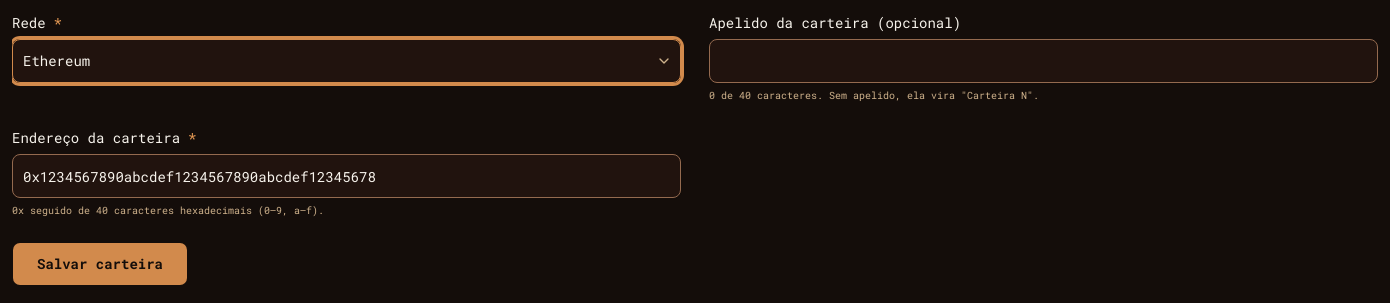
it: WalletForm › durante o envio mostra "Salvando…" desabilitado
Earlier steps of the test are not shown.
Click the button "Salvar carteira" at (100, 264), box [12,242,188,286]
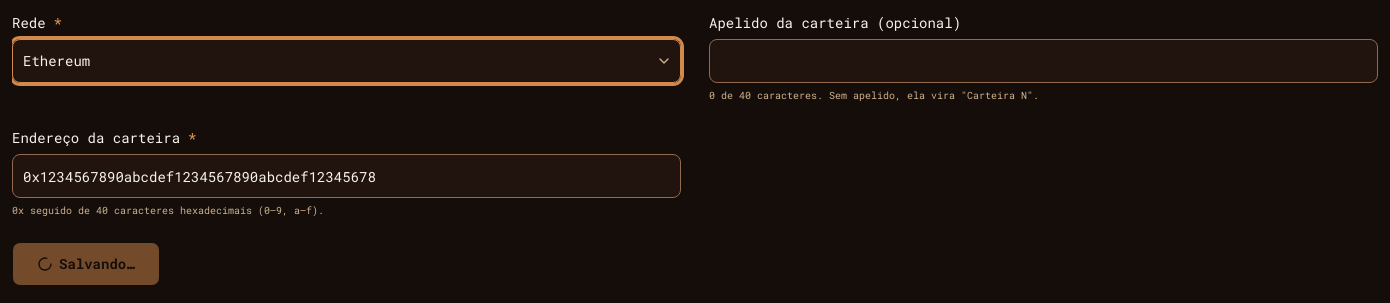
Check: the button "Salvando…" is disabled, box [12,242,160,286]
